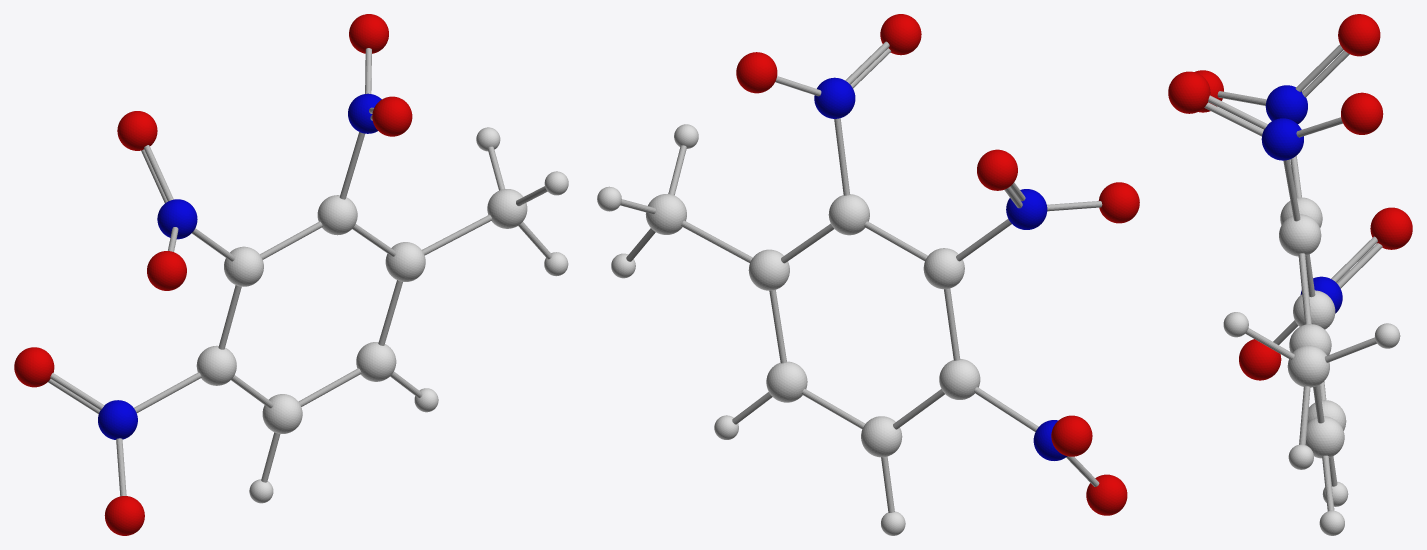
3 renders of one model, left to right at view 1: azimuth 30°, elevation 25°; view 2: azimuth 150°, elevation 25°; view 3: azimuth 270°, elevation 25°, orthographic. The views are drawn at different scales.
Visible parts, largest first — view 1: world; view 2: world; view 3: world.
Part boxes in pixels (<box>): world: <box>14,14,568,535</box>; world: <box>597,14,1139,535</box>; world: <box>1168,14,1412,535</box>.
Bounding box in the file's own units: 7.29 × 6.16 × 2.89.
